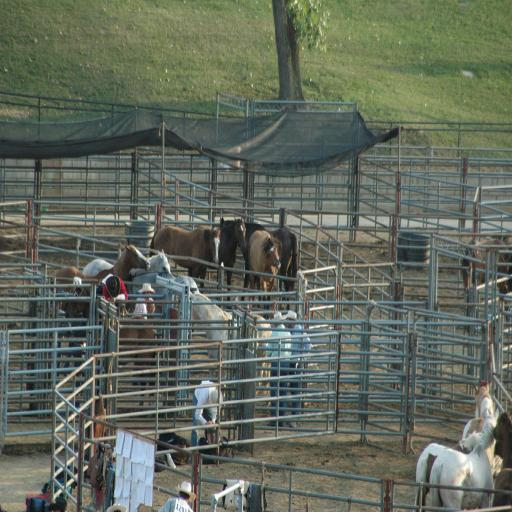horse: (64, 281, 156, 411), (187, 289, 272, 396), (48, 242, 150, 329), (218, 217, 300, 310), (429, 406, 499, 512), (416, 430, 503, 512), (186, 216, 248, 302), (147, 224, 221, 292), (462, 237, 512, 333), (82, 248, 172, 297), (244, 228, 284, 312), (460, 380, 494, 468), (126, 270, 198, 302), (493, 410, 512, 512)
